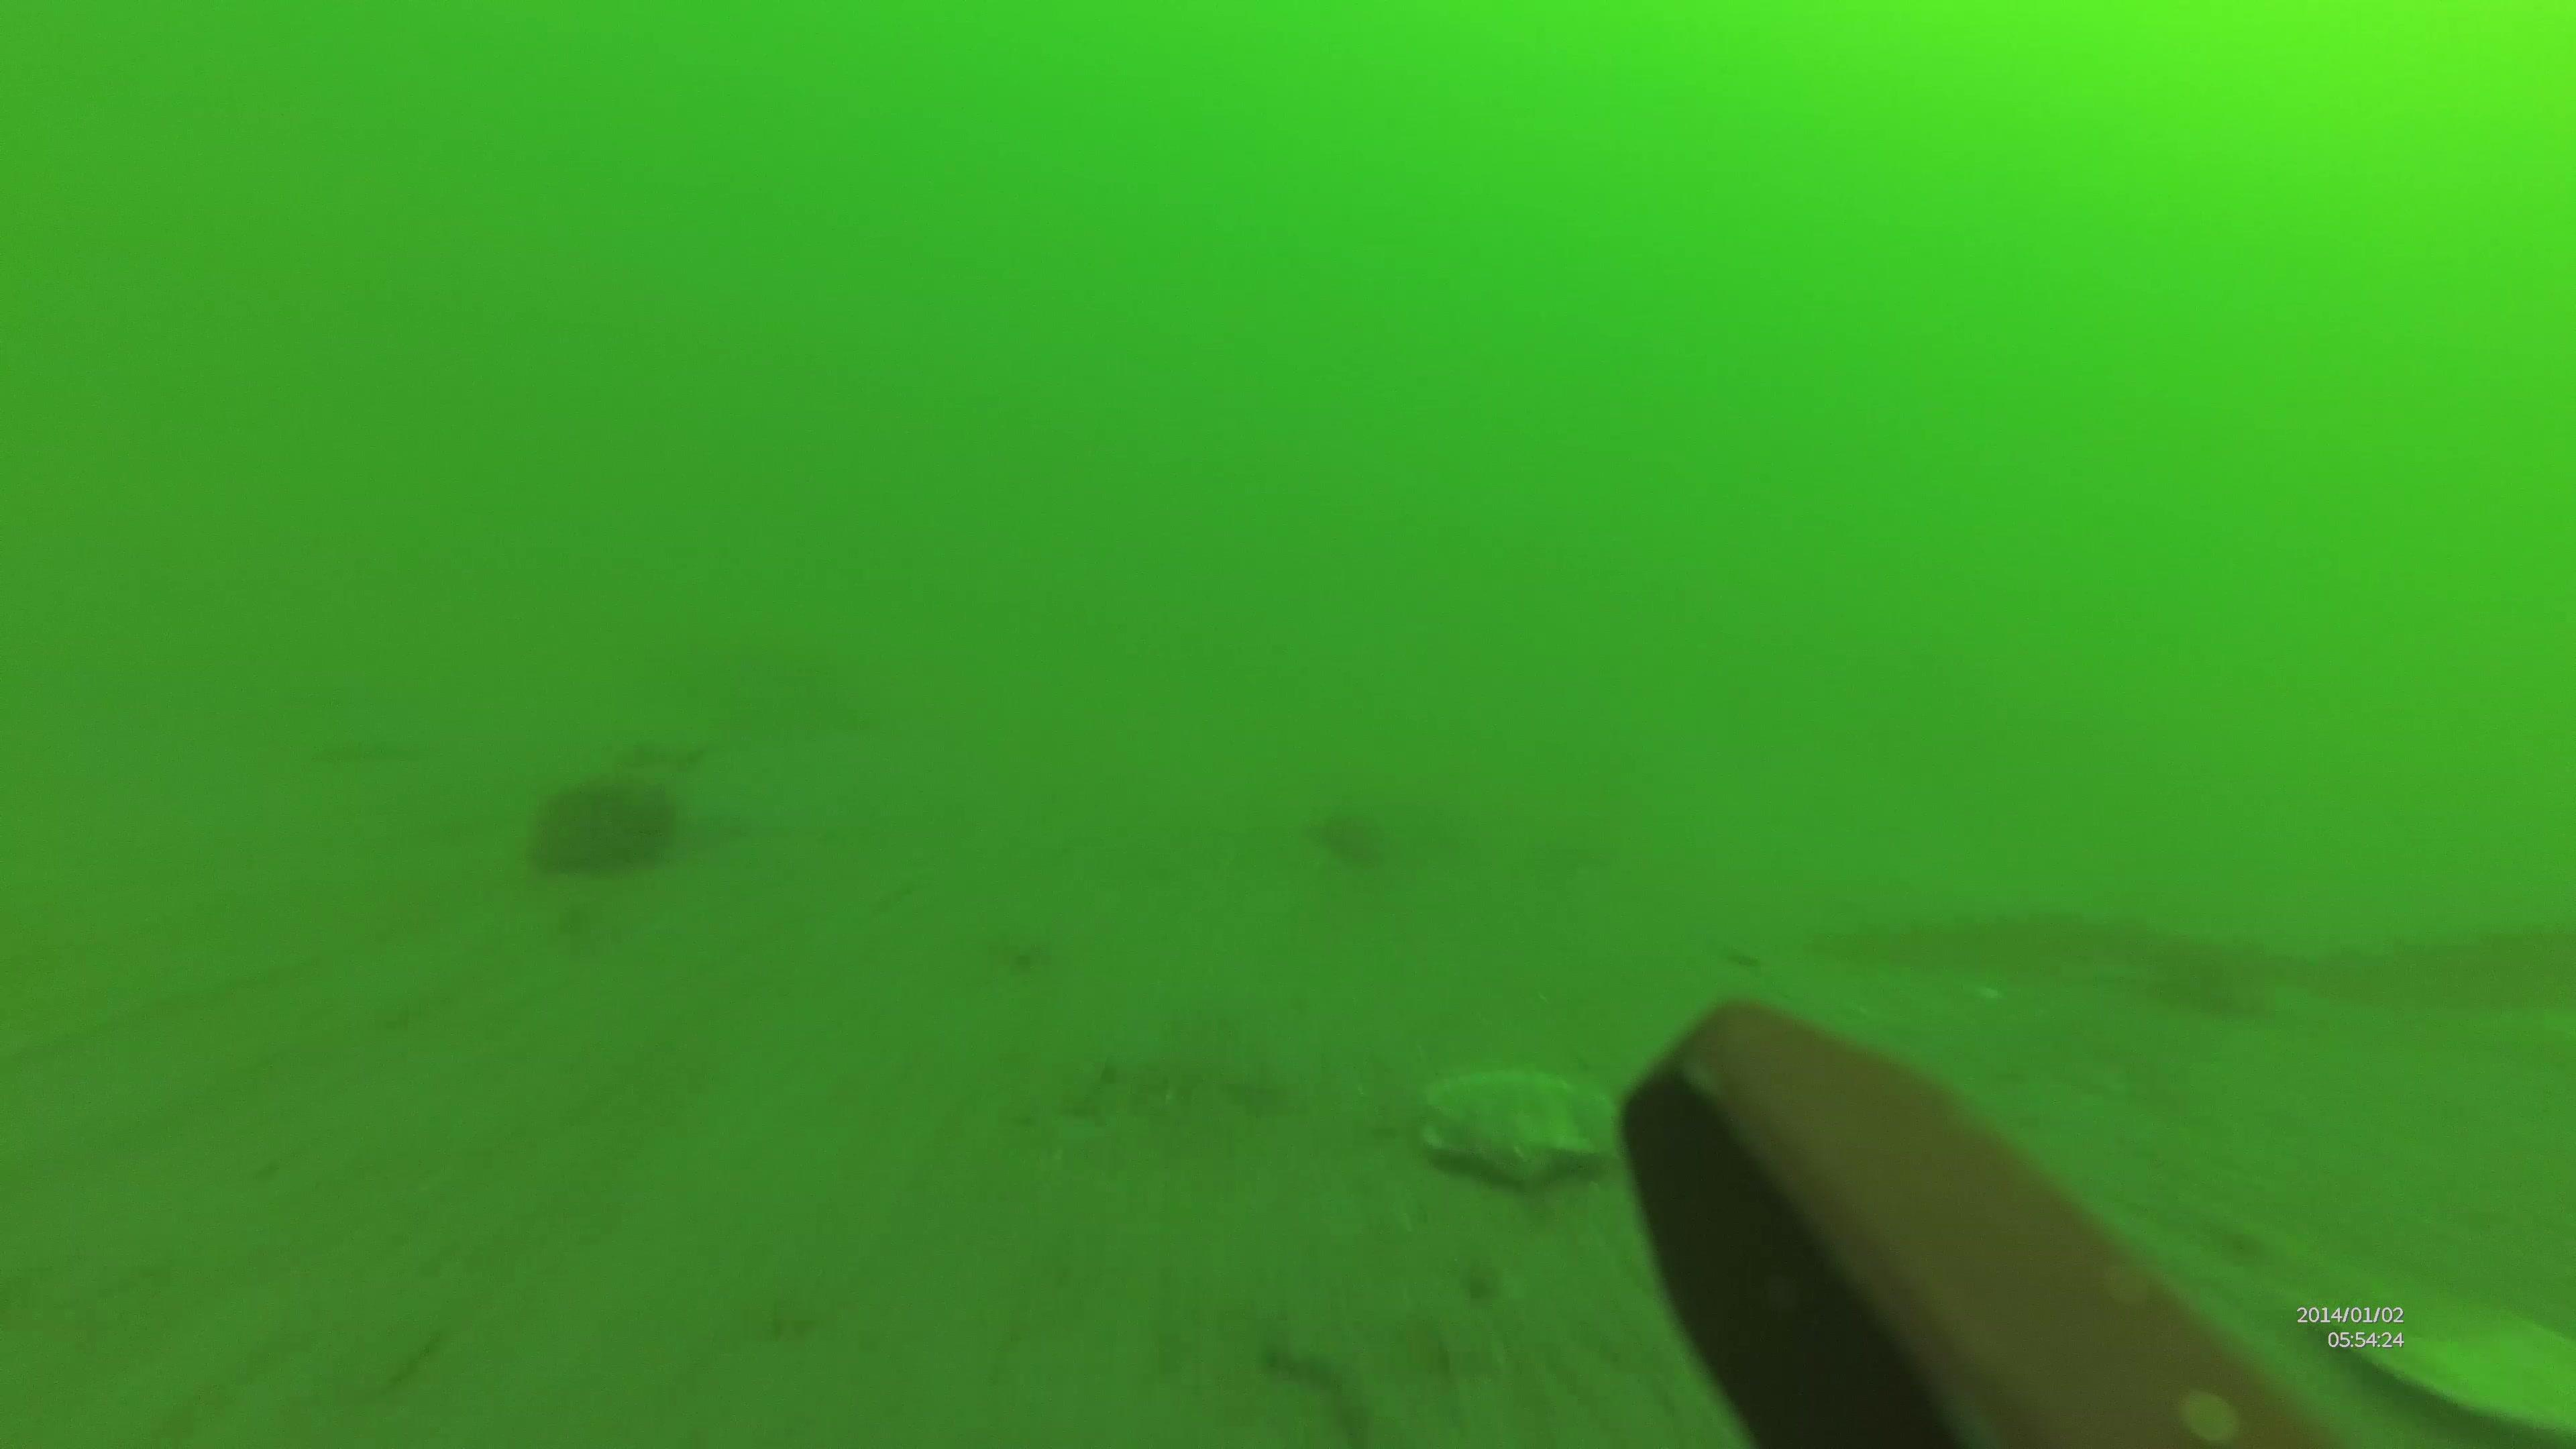echinus: (529, 782, 674, 879)
scallop: (2346, 1286, 2576, 1444), (1421, 1072, 1621, 1185)
